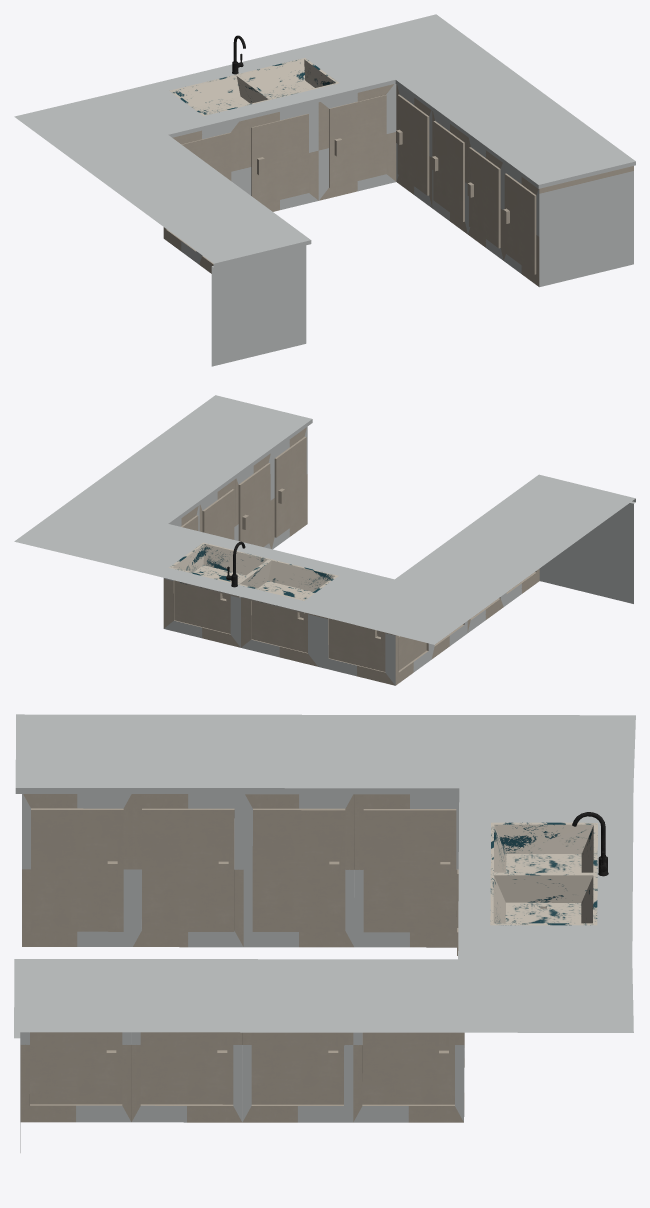
The model's file is Kitchen_Table.fbx.
3 renders of one model, top to bottom at view 1: azimuth 30°, elevation 25°; view 2: azimuth 150°, elevation 25°; view 3: azimuth 270°, elevation 25°, orthographic. The views are drawn at different scales.
Visible parts, largest first — view 1: Kitchen_Table; view 2: Kitchen_Table; view 3: Kitchen_Table.
Boxes of the visible parts, box(x1,y1,x2,y2) form: Kitchen_Table: box(14, 14, 635, 366); Kitchen_Table: box(14, 395, 635, 685); Kitchen_Table: box(14, 714, 635, 1152).
Size of the model in its own units: 447 by 146 by 369.
